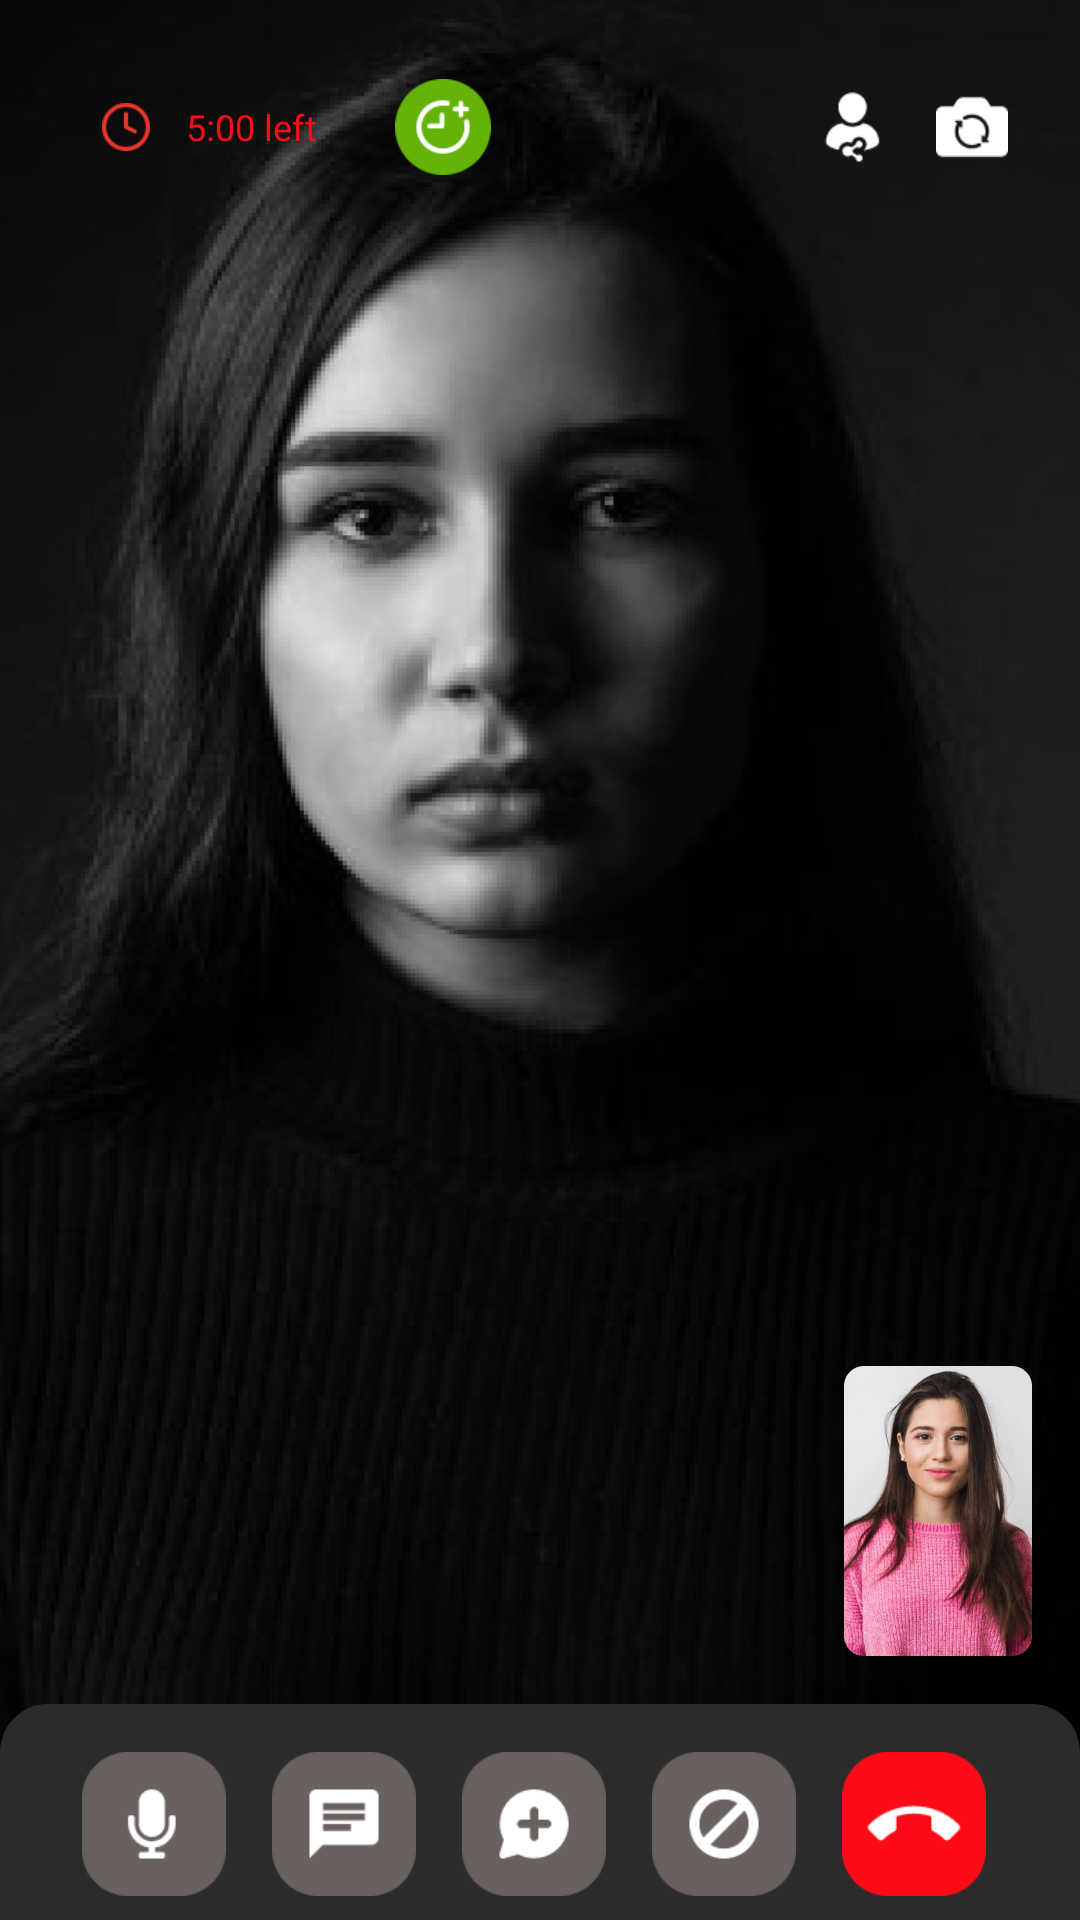

Icons on this 1080px×1920px Android screen, each with its box as (x1, y1, x2, y2):
video add time: (395, 79, 491, 175)
video block: (652, 1752, 796, 1896)
video camera: (936, 96, 1008, 158)
video chat: (272, 1752, 416, 1896), (462, 1752, 606, 1896)
video drop call: (842, 1752, 986, 1896)
video mic: (82, 1752, 226, 1896)
video share: (825, 92, 880, 162)
video time: (102, 103, 150, 151)
